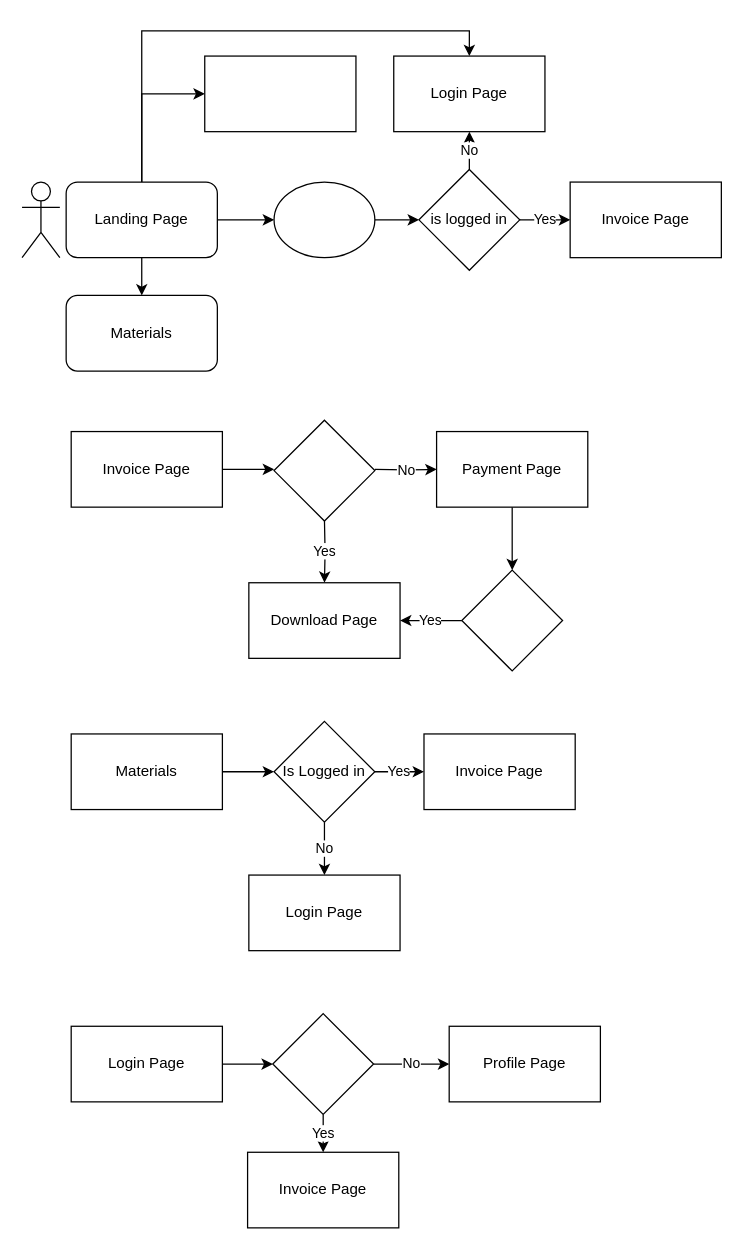
Some shapes in this 743 by 1250 pixel diagram are drawn without their labels. The box of each missing label's shape, as (x1, y1, x2, y2) in pixels:
Actor: (21, 181, 60, 258)
Clicked on Material: (273, 181, 375, 258)
Create Account Page: (203, 55, 356, 132)
Is clicked on Material: (272, 1012, 374, 1114)
is Material free: (273, 419, 375, 521)
Is Payment Done: (461, 569, 563, 671)
